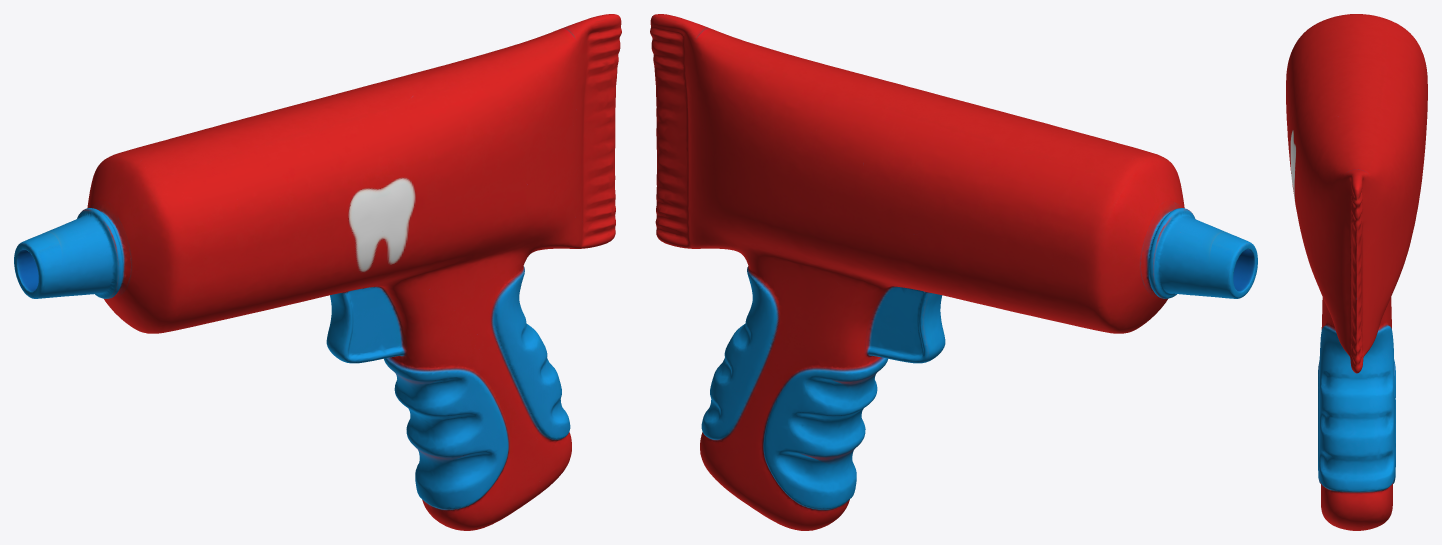
The model's file is toothpaste_pistol.glb.
The picture shows the model from 3 angles, left to right: view 1: azimuth 30°, elevation 25°; view 2: azimuth 150°, elevation 25°; view 3: azimuth 270°, elevation 25°; orthographic projection. The views are drawn at different scales.
Parts seen in each view (by area): view 1: mesh_node; view 2: mesh_node; view 3: mesh_node.
Part boxes in pixels (x1,y1,x2,y2): mesh_node: [14, 14, 621, 530]; mesh_node: [650, 14, 1257, 530]; mesh_node: [1286, 14, 1427, 530].
Size of the model in its own units: 1.9 by 1.46 by 0.4665.
Materials: 1 (1 with a texture image).
